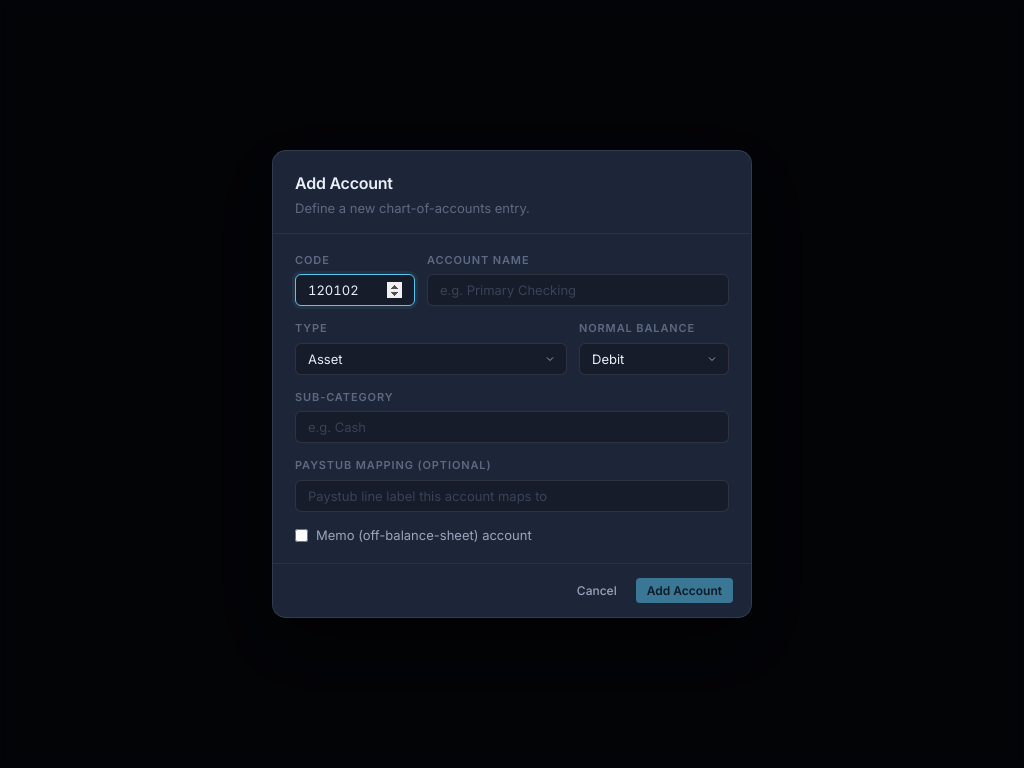
Test: AccountModal › pre-fills the suggested code and updates it when the type changes
Check: the number field showing "120102" is shown, box 295,274 -> 415,306
Select "Income" in the dropdown showing "Asset" below "Type" at (431, 358), box 295,342 -> 567,374
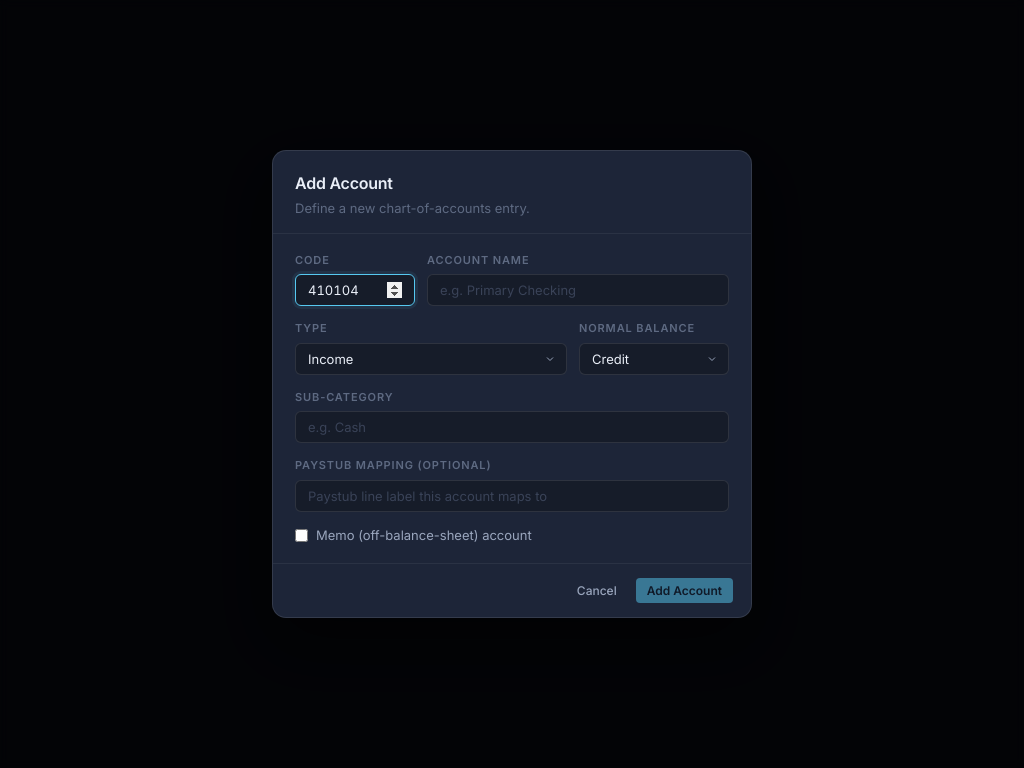
Check: the number field showing "410104" is shown, box 295,274 -> 415,306
